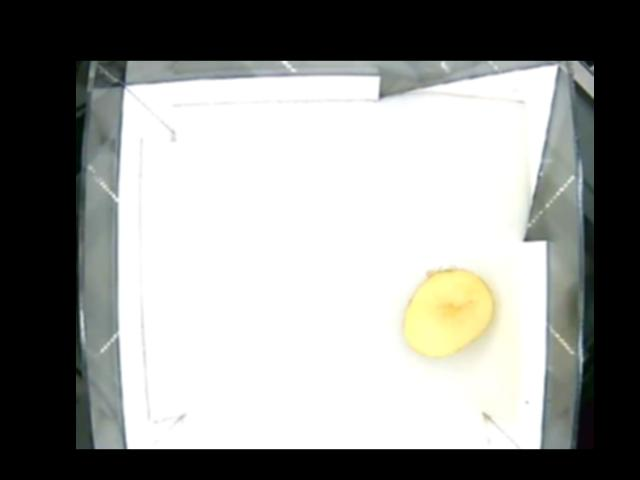Potato: (402, 267, 495, 357)
